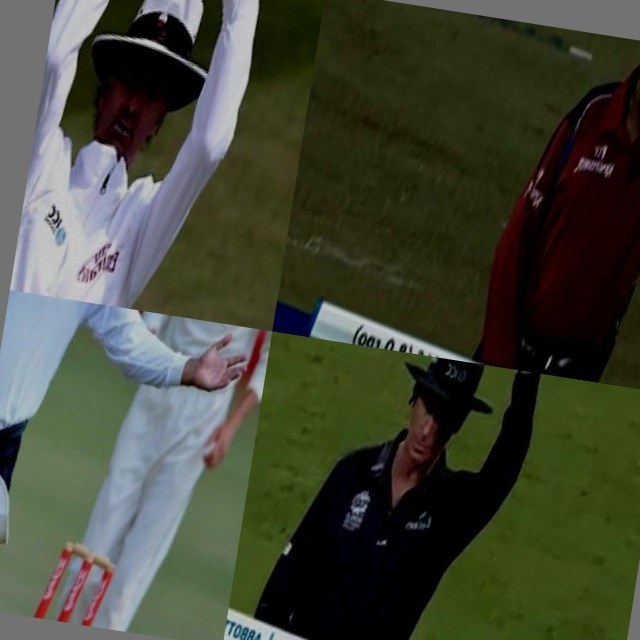Out: (242, 335, 586, 640), (445, 19, 640, 394)
Six: (10, 0, 324, 331)
Wide: (0, 290, 272, 528)
